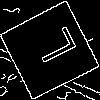L: (24, 25, 78, 70)
